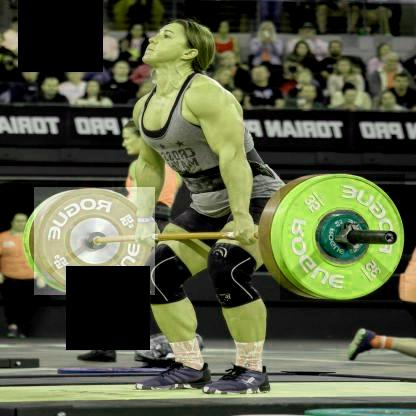barbell: (278, 174, 404, 301), (33, 187, 153, 295)
